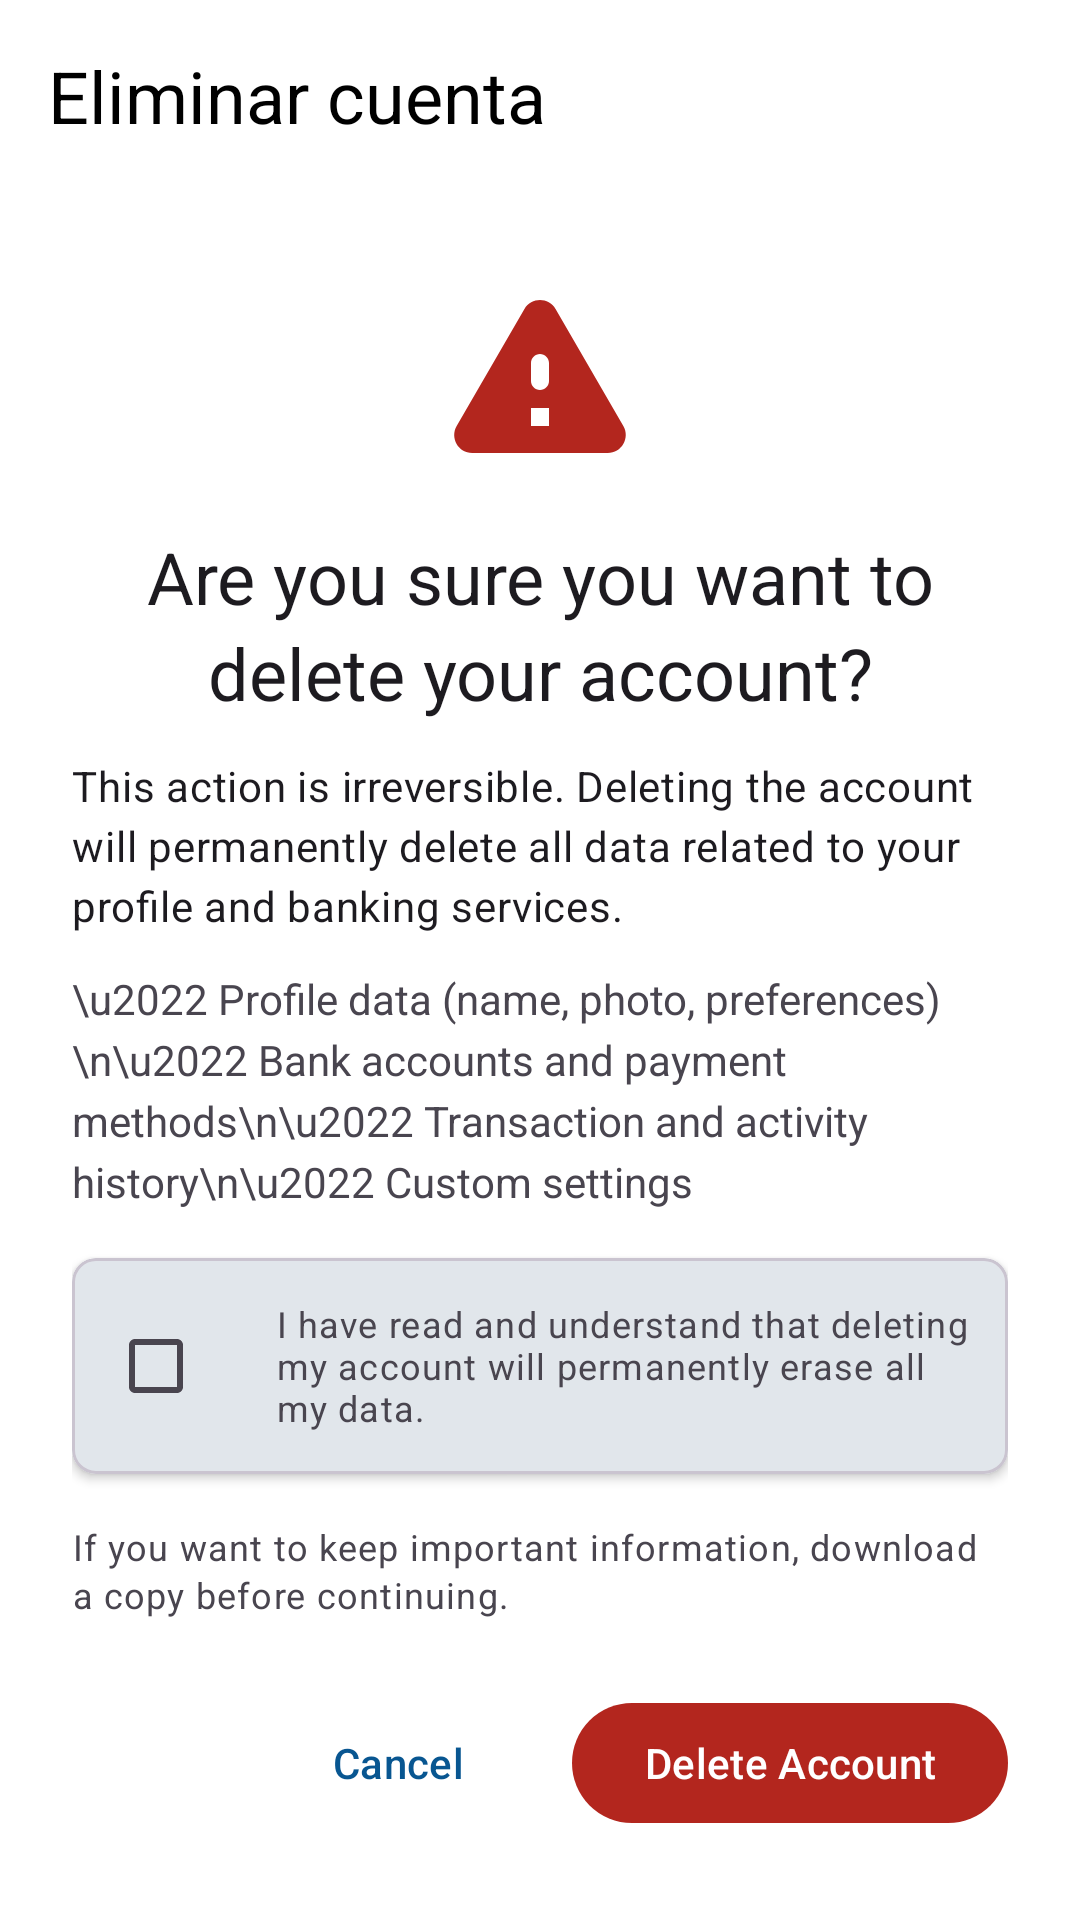

Point at icon controls on the screen. Image size 1080 x 1920, points as (x=x, y=y).
Warning Icon: (x=540, y=376)
